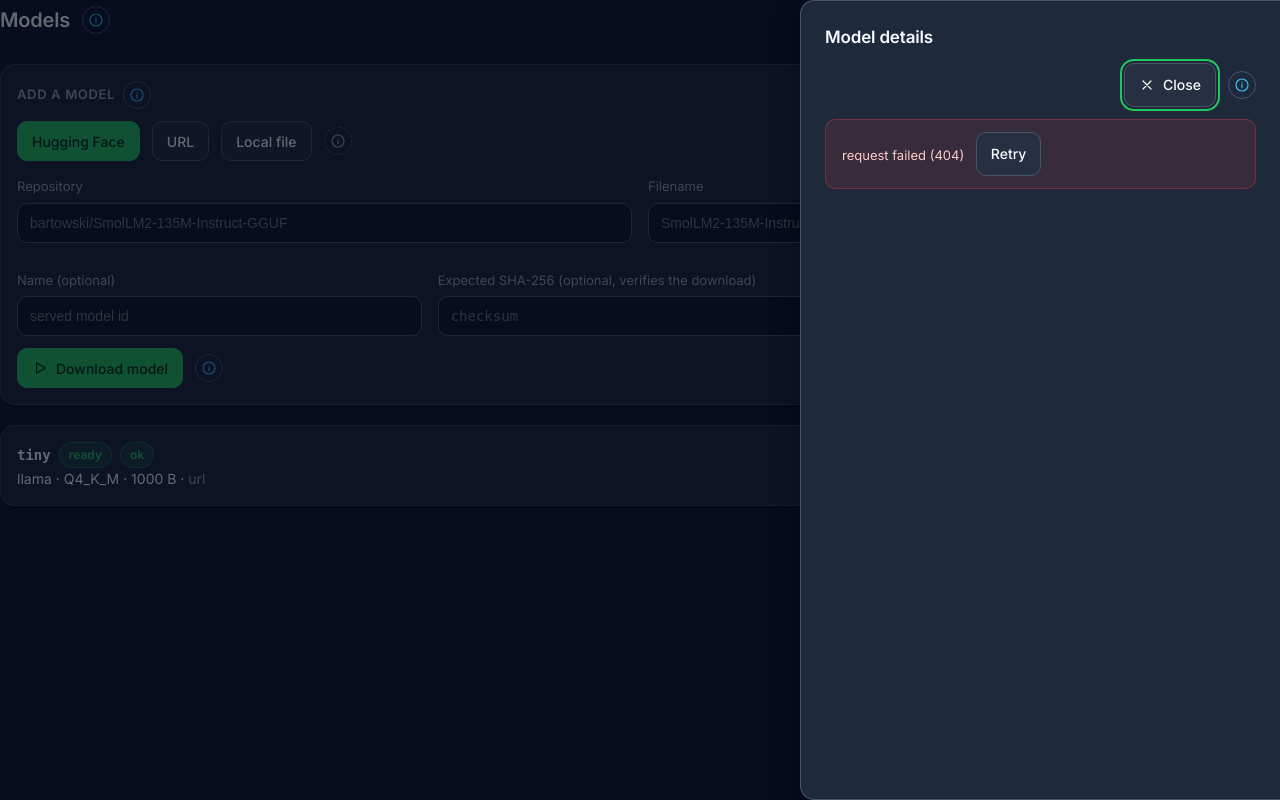
Test: Model details drawer › treats a 404 without the model_not_found code as an ordinary error, with Retry
Expected: the message shows "request failed (404)", [842, 146, 964, 162]
Click the button "Retry".
click(1009, 154)  # box [976, 132, 1041, 176]
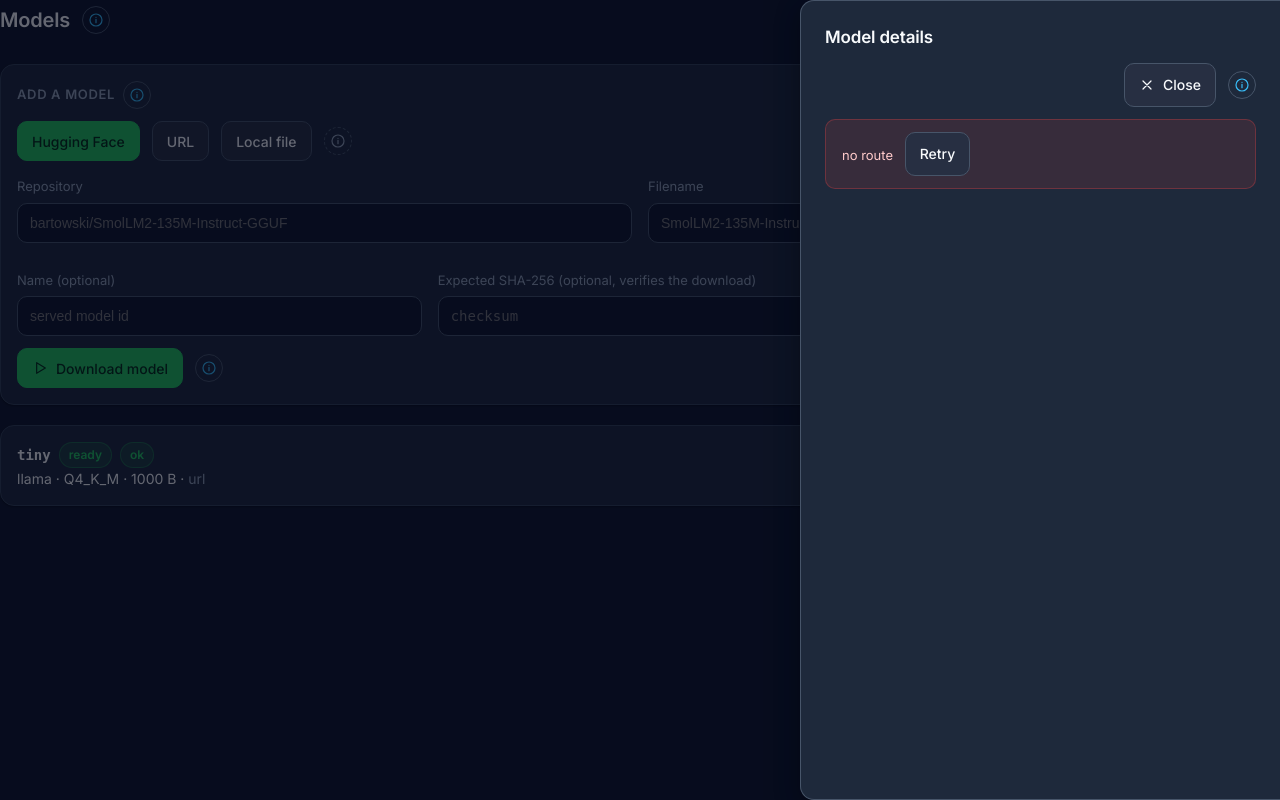
Click the button "Retry".
click(938, 154)  # box [905, 132, 970, 176]
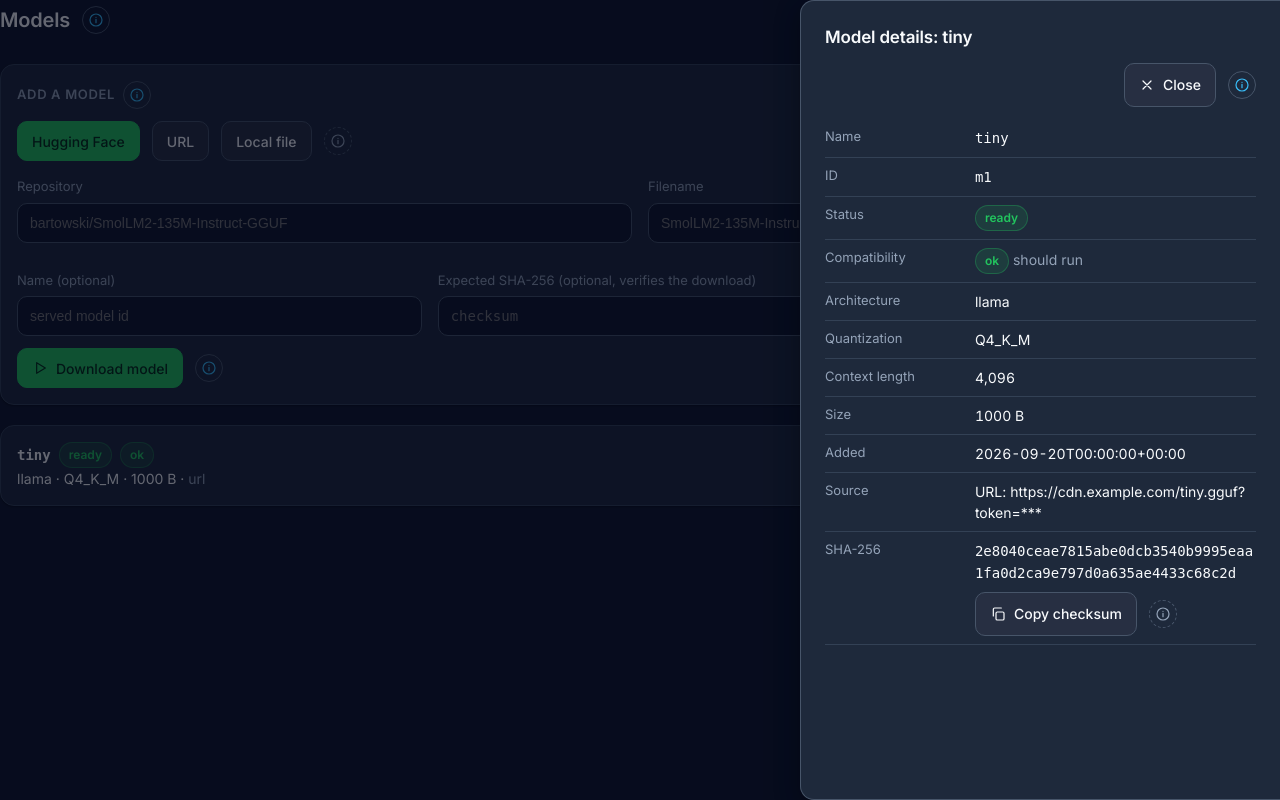
Expected: the element with test id "model-details" is shown, [825, 118, 1256, 644]
